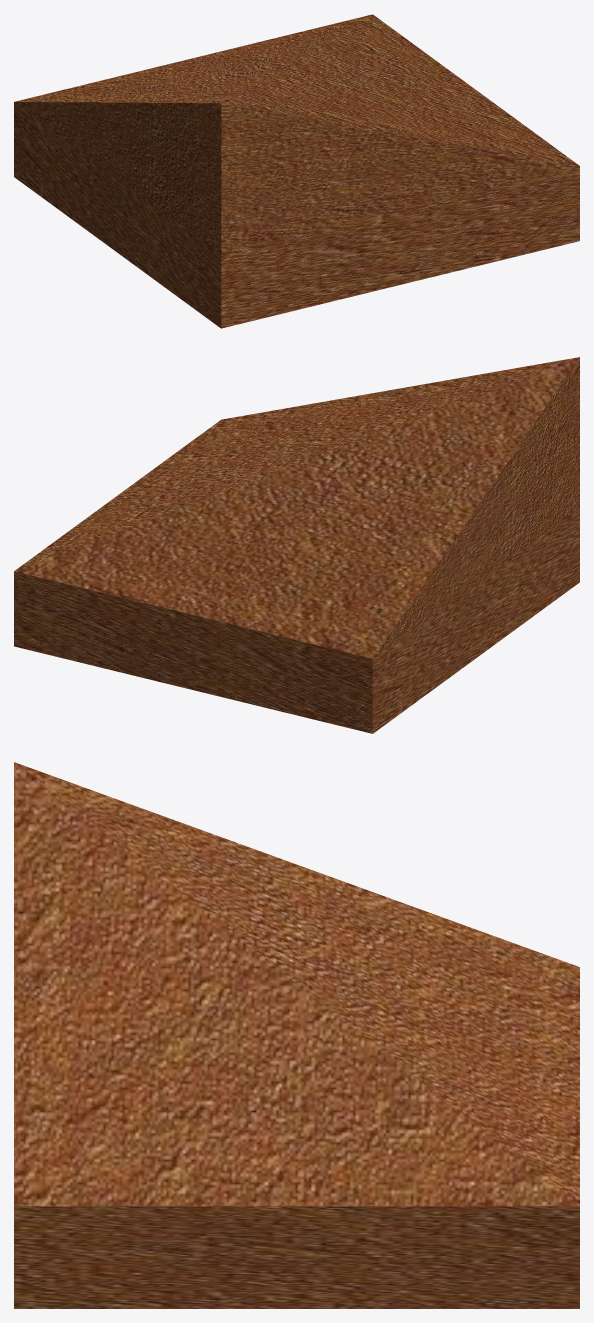
File: Map0002.fbx
3 renders of one model, top to bottom at view 1: azimuth 30°, elevation 25°; view 2: azimuth 150°, elevation 25°; view 3: azimuth 270°, elevation 25°, orthographic. The views are drawn at different scales.
Parts seen in each view (by area): view 1: Map0002, Map0000; view 2: Map0002, Map0000; view 3: Map0002, Map0000.
Part boxes in pixels (x1,y1,x2,y2): Map0002: [14, 14, 579, 253]; Map0000: [14, 102, 579, 328]; Map0002: [14, 357, 579, 658]; Map0000: [14, 507, 579, 733]; Map0002: [14, 762, 579, 1206]; Map0000: [14, 1206, 579, 1308].
Size of the model in its own units: 200 by 120 by 200.
2 materials, 2 textured.
